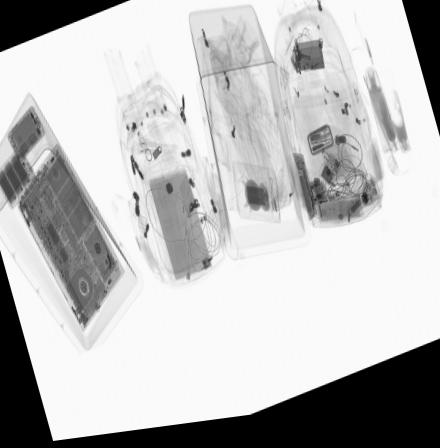Powerbank: (0, 145, 36, 211)
